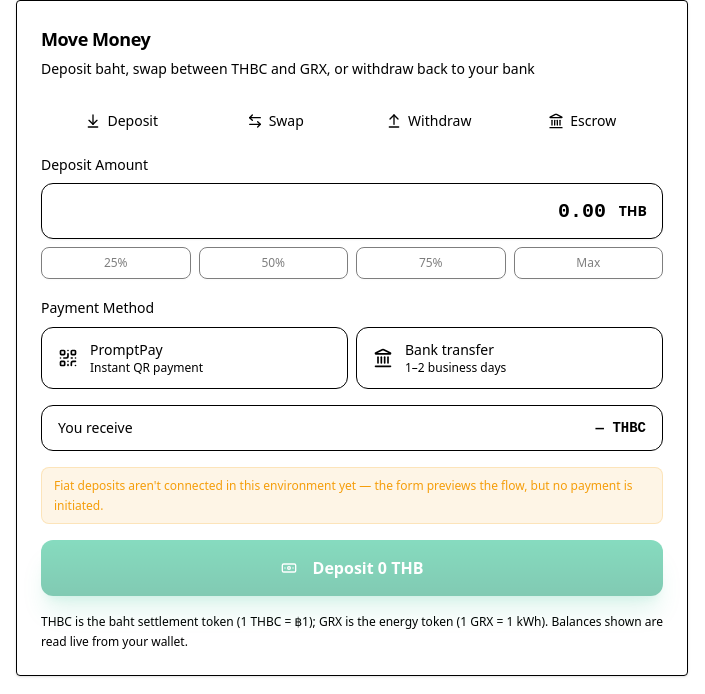
Scenario: WalletActions › previews a 1:1 THBC credit for a THB deposit
The width and height of the screenshot is (705, 694).
In the number field with test id "escrow-amount-input": (352, 211) [41,183,663,239], type "500"
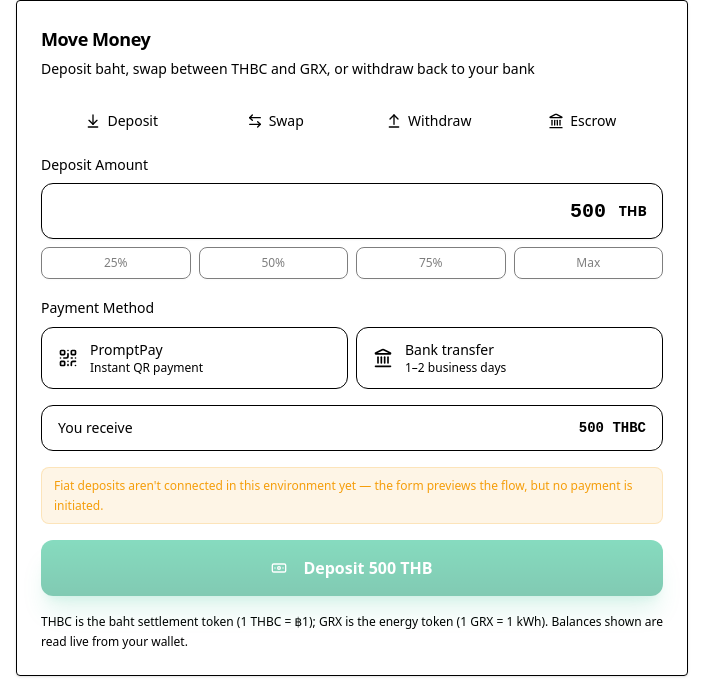
expect the text "500 THBC" is shown: met, box [579,418,646,438]
